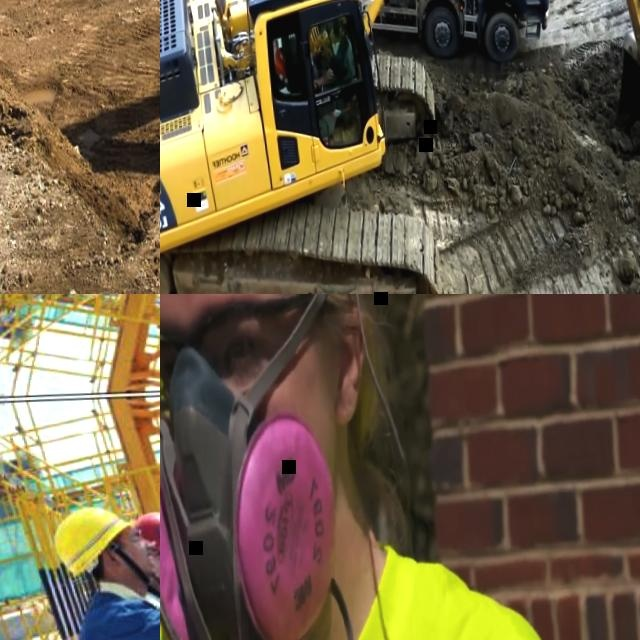Hardhat: (50, 502, 134, 578), (133, 510, 160, 548)
Mask: (160, 340, 344, 640)
NO-Mask: (130, 540, 154, 573)
NO-Safety Vest: (160, 537, 513, 640), (73, 593, 160, 640), (312, 56, 318, 80)
Person: (160, 294, 592, 640), (52, 491, 160, 640), (308, 28, 348, 117)
Safety Vest: (274, 48, 290, 87)
machinery: (160, 0, 640, 294), (243, 0, 559, 74)
